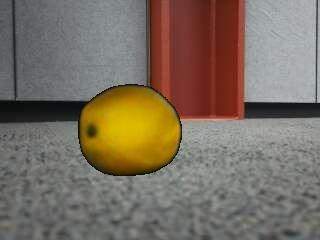lemon: (79, 86, 181, 175)
